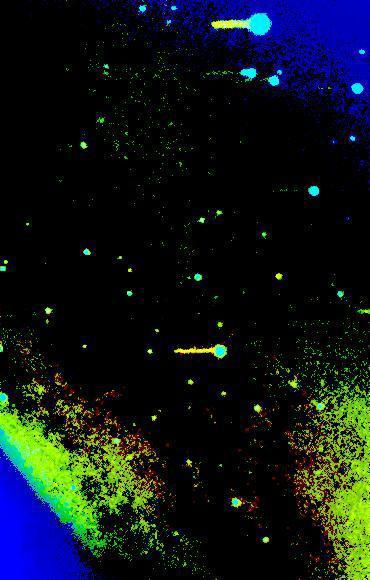star: (264, 260, 294, 290)
